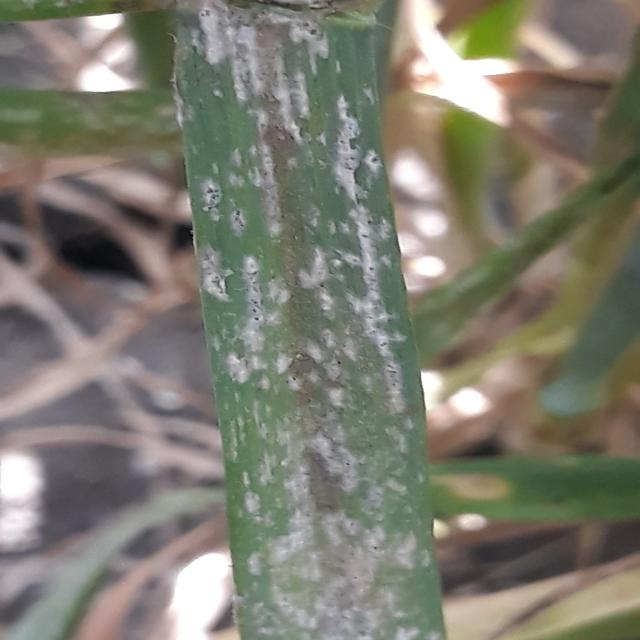powder_mildew: (85, 0, 523, 640)
